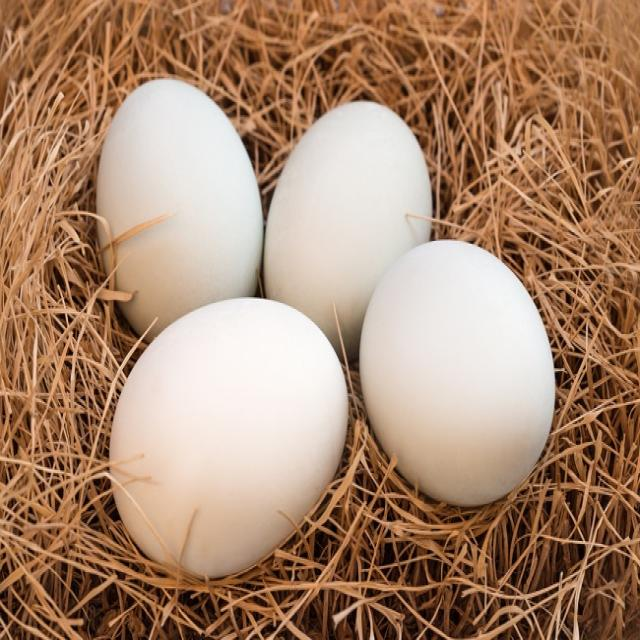Organik: (105, 297, 351, 576), (360, 237, 560, 505), (98, 73, 276, 327), (260, 95, 430, 344)
